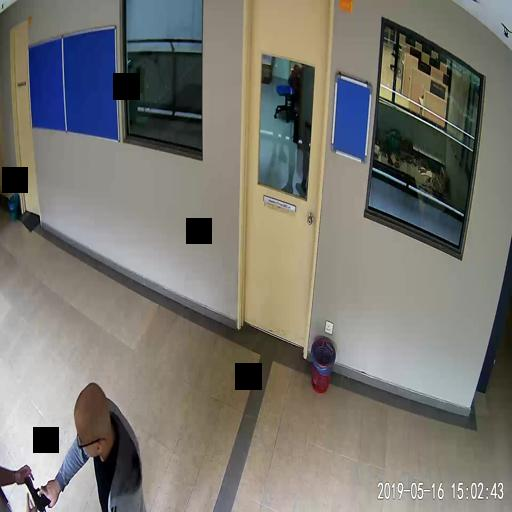Handgun: (23, 473, 50, 510)
